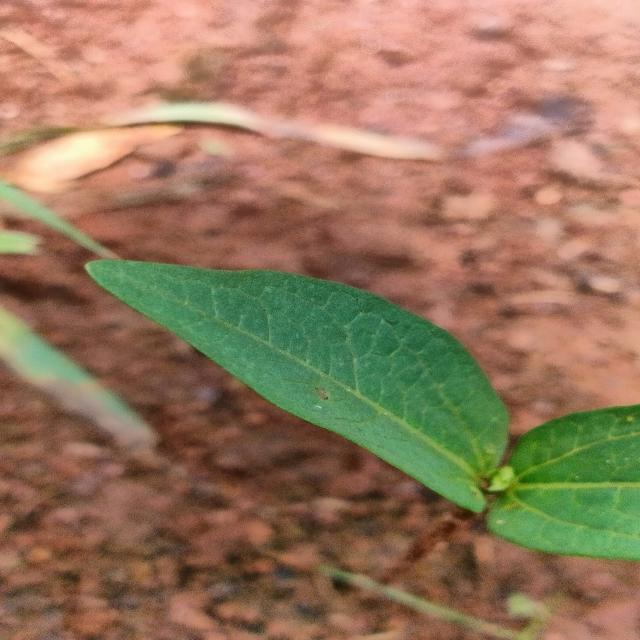Black gram_healthy: (85, 254, 508, 506)
